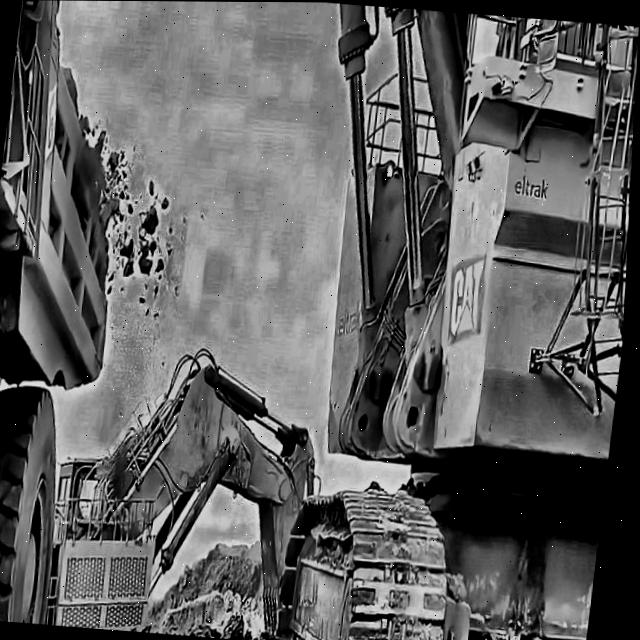dump_truck: (0, 0, 173, 628)
excavator: (118, 1, 640, 640), (33, 280, 350, 640)
